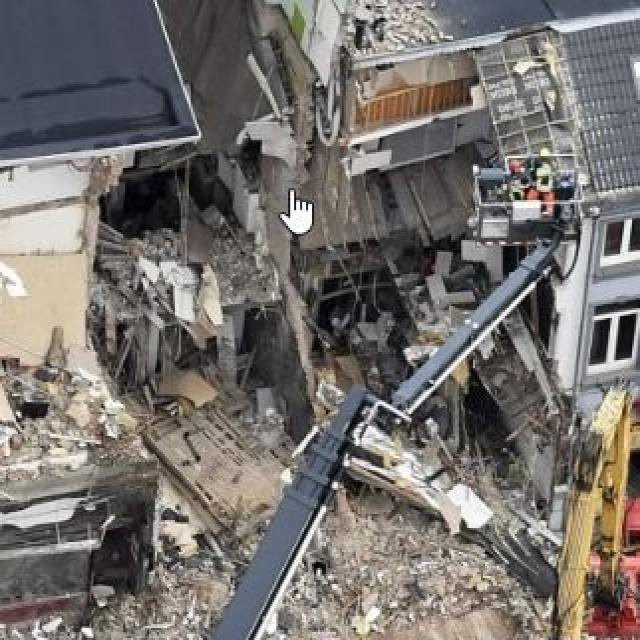collapsed_building: (213, 2, 516, 462), (0, 0, 213, 440)
